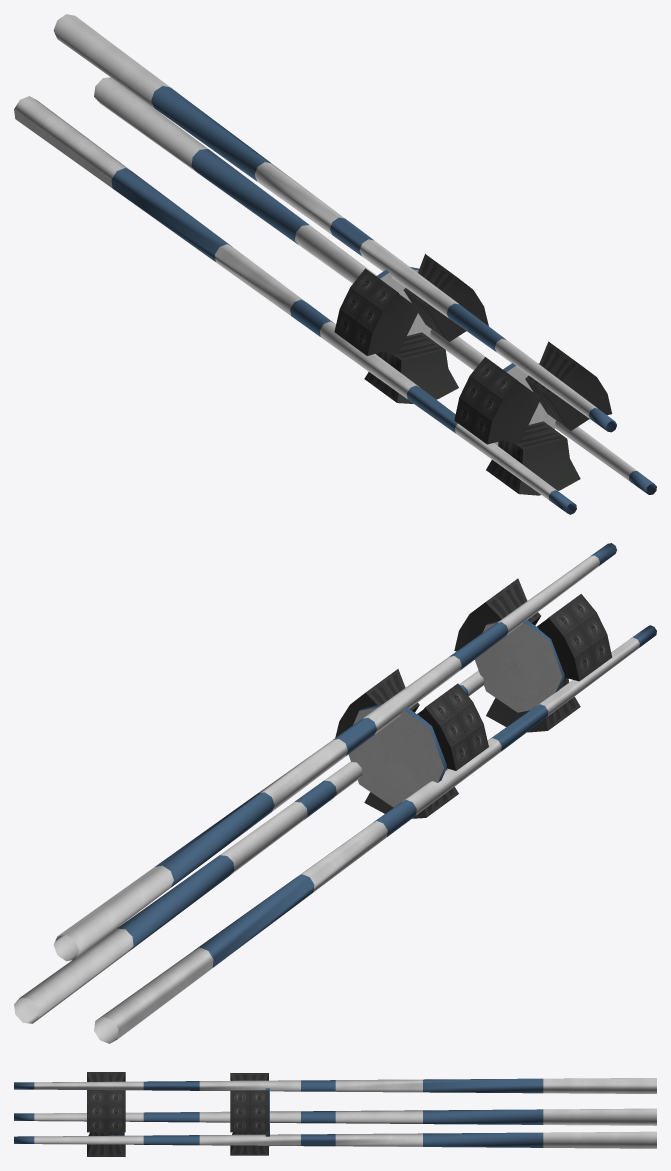
File: nt_2020_vista_speakers_01_LOD0.obj
3 renders of one model, top to bottom at view 1: azimuth 30°, elevation 25°; view 2: azimuth 150°, elevation 25°; view 3: azimuth 270°, elevation 25°, orthographic. The views are drawn at different scales.
Visible parts, largest first — view 1: jun_art_metal_white, mtl_p6_speakers_short_club, nt_2020_plastic_blue; view 2: jun_art_metal_white, nt_2020_plastic_blue, mtl_p6_speakers_short_club; view 3: jun_art_metal_white, nt_2020_plastic_blue, mtl_p6_speakers_short_club.
Boxes of the visible parts, bbox=[...] form: jun_art_metal_white: bbox=[14, 14, 636, 499]; mtl_p6_speakers_short_club: bbox=[334, 254, 612, 495]; nt_2020_plastic_blue: bbox=[111, 86, 656, 514]; jun_art_metal_white: bbox=[14, 555, 639, 1043]; nt_2020_plastic_blue: bbox=[117, 543, 656, 967]; mtl_p6_speakers_short_club: bbox=[335, 578, 612, 818]; jun_art_metal_white: bbox=[34, 1078, 656, 1148]; nt_2020_plastic_blue: bbox=[14, 1078, 543, 1147]; mtl_p6_speakers_short_club: bbox=[87, 1072, 268, 1156].
Size of the model in its own units: 194 by 185 by 1464.
